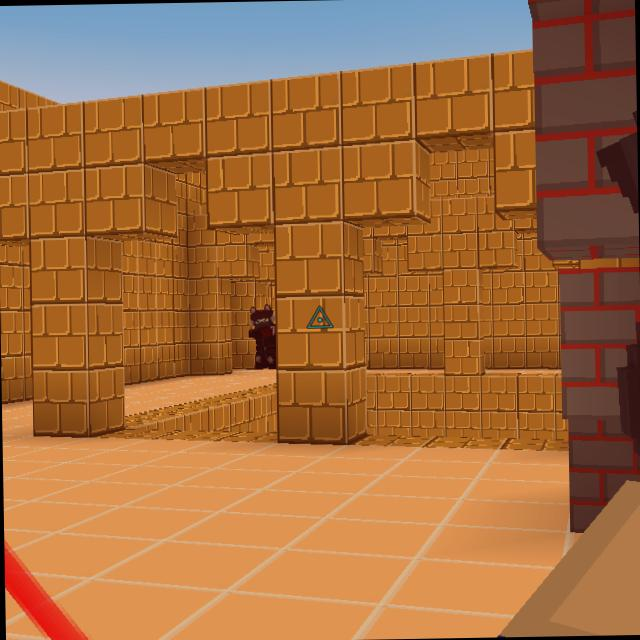enemy: (247, 304, 276, 369)
